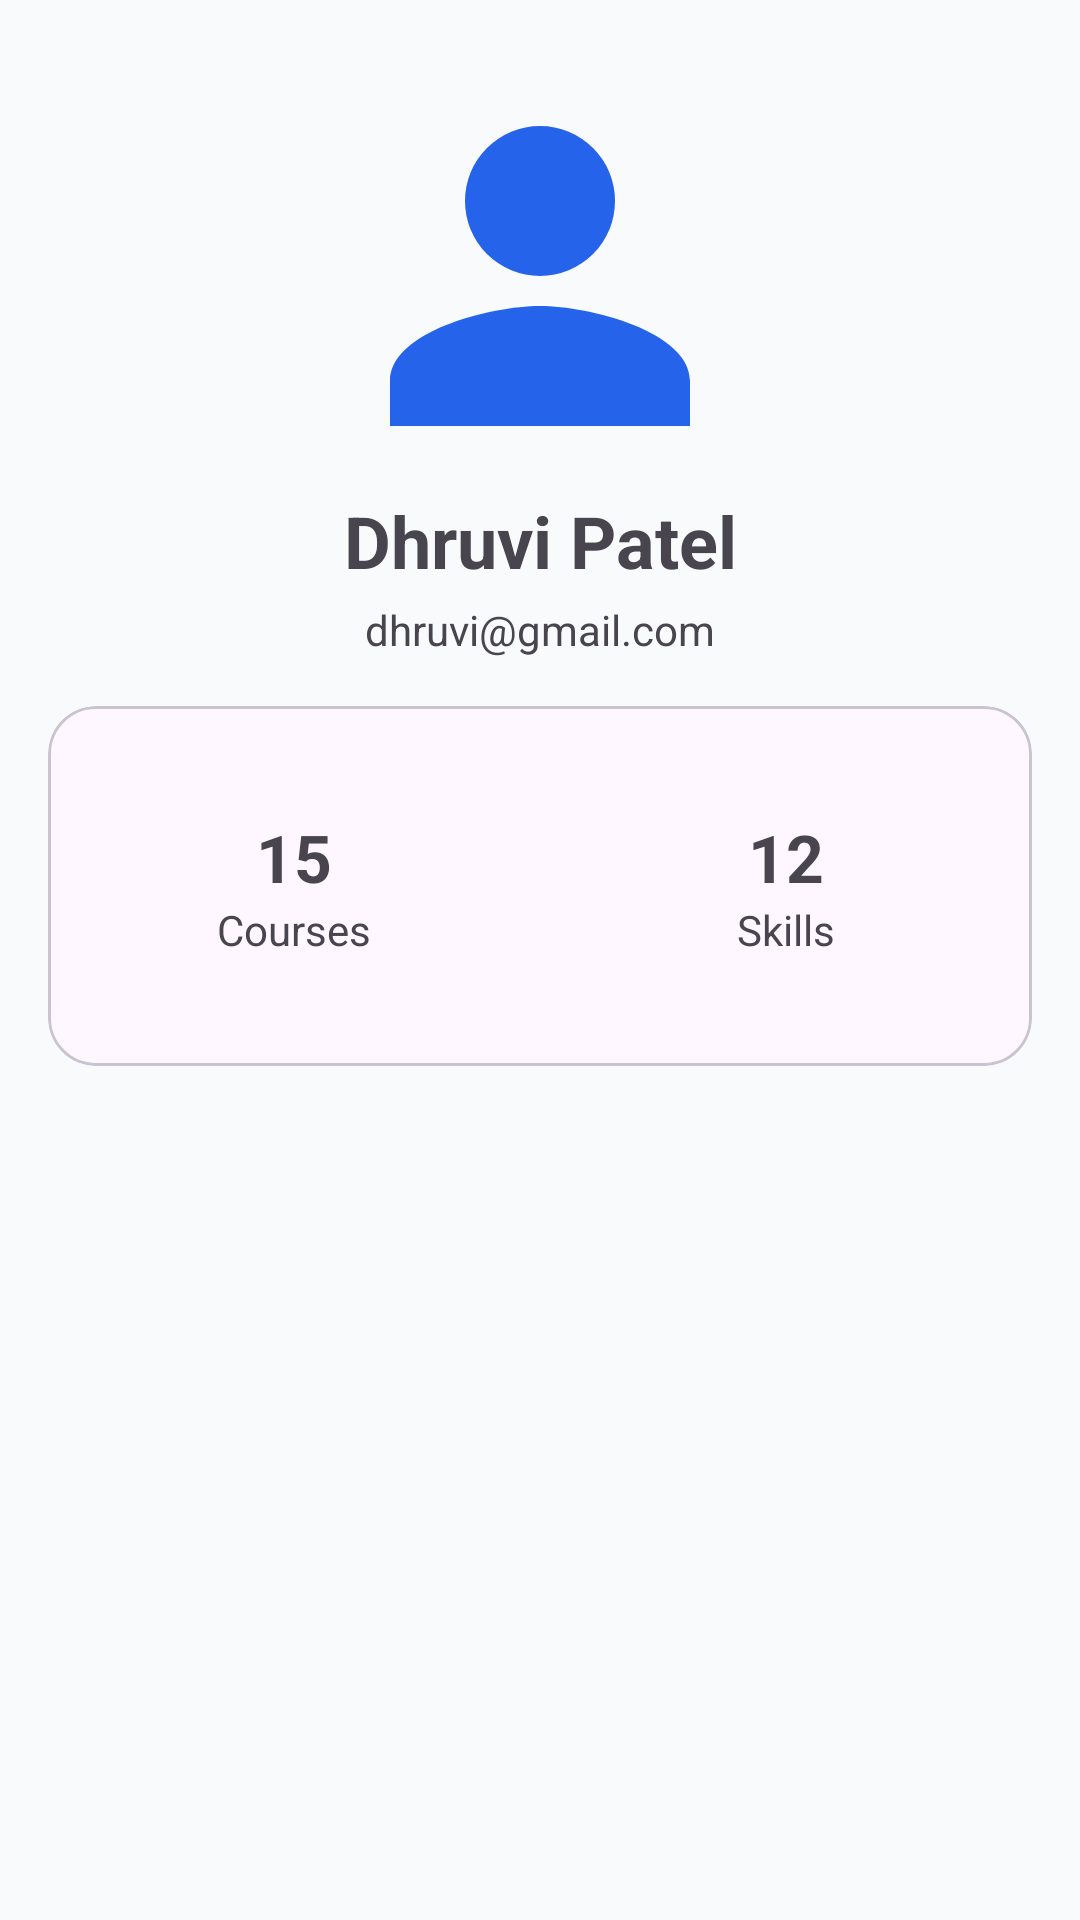

Screen size 1080px×1920px. Icon name, then its box in pixels as (x1, y1, x2, y2):
profile: (390, 126, 690, 426)
